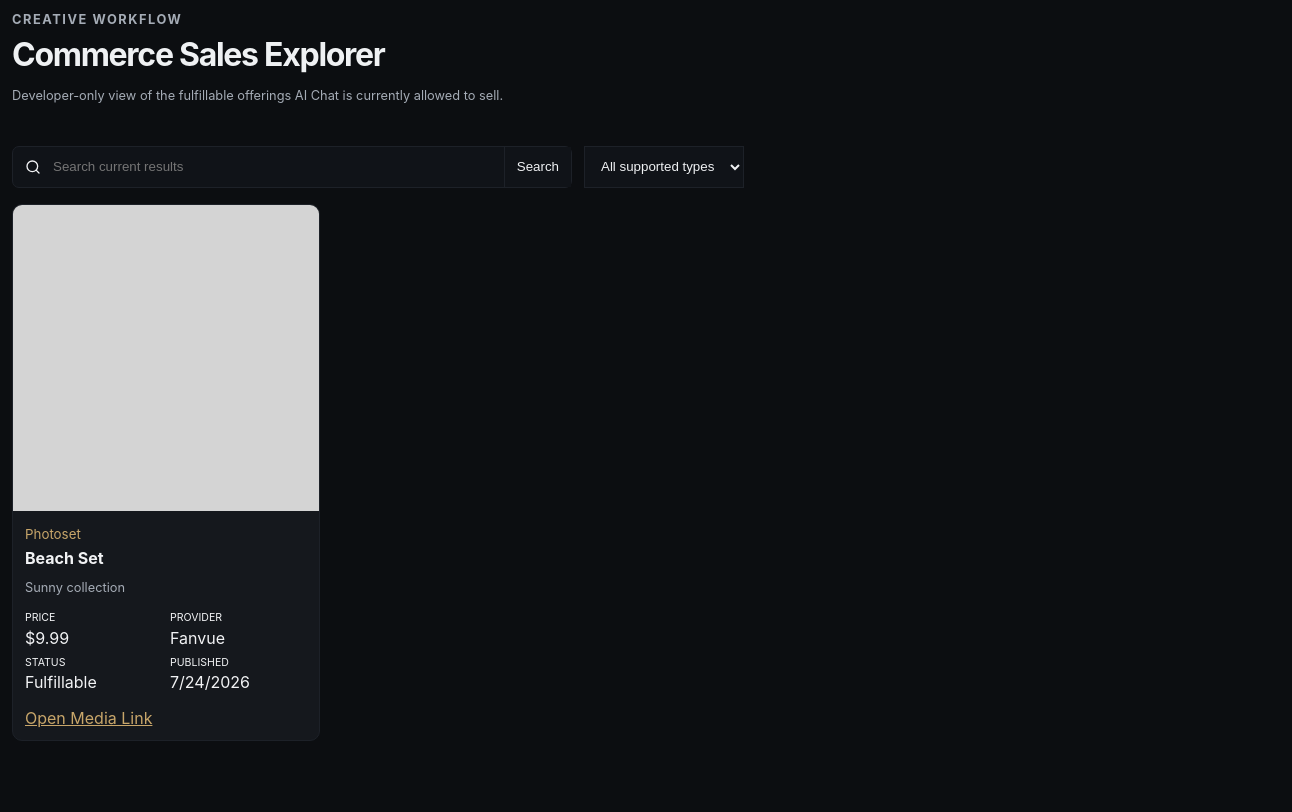
CommerceSalesExplorerPage › searches visible results
Expected: the heading "Beach Set" is shown, [25,548,104,568]
Type "missing" into the field named "Search Commerce Sales" at (272, 167), box [41,147,504,187]
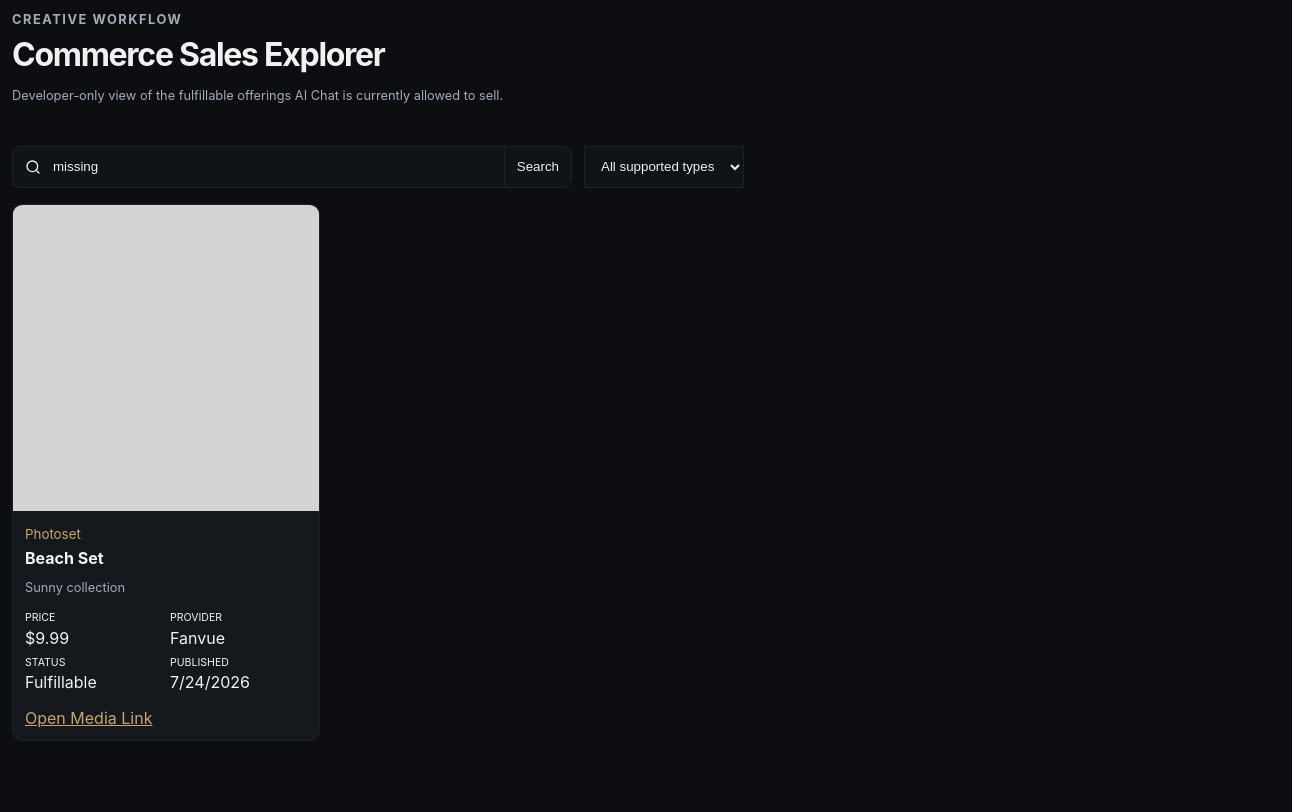
Click the button "Search" at (537, 167), box [504,147,571,187]
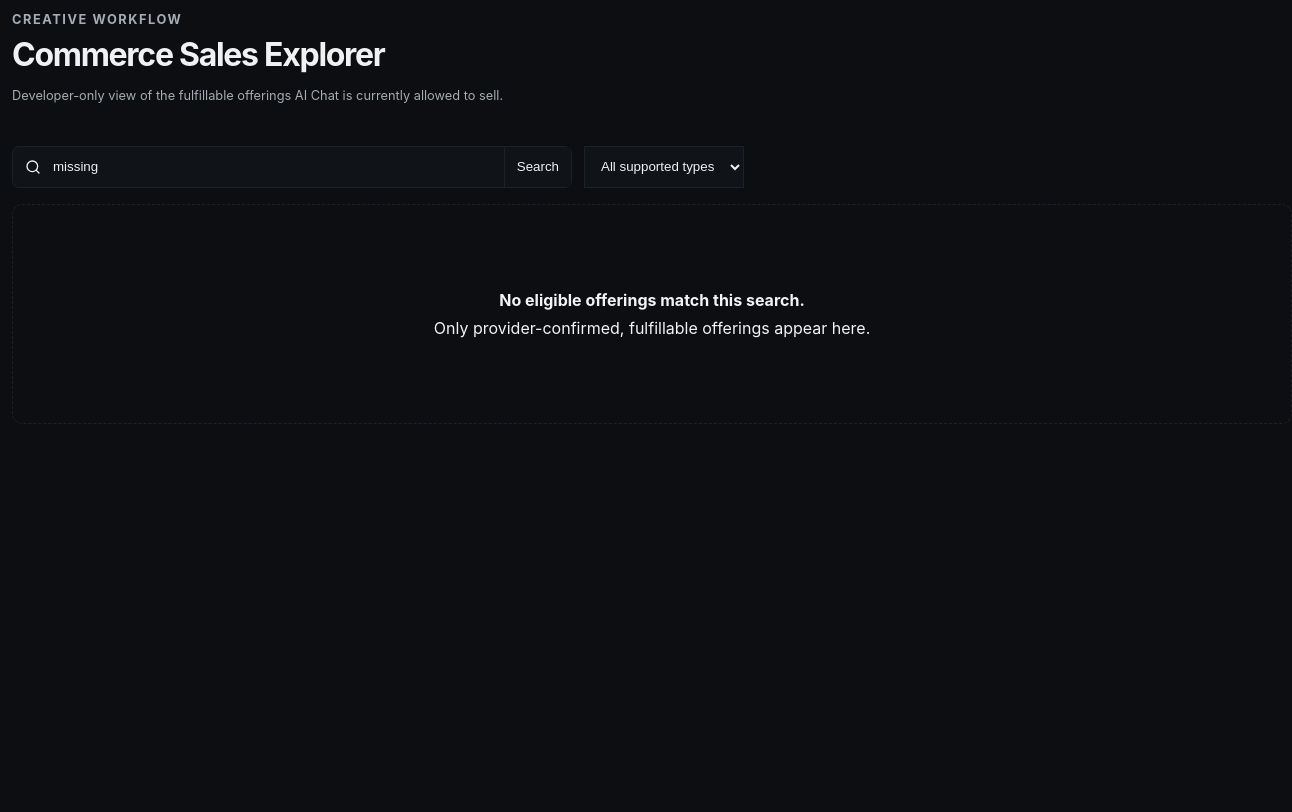
Now the text "No eligible offerings match this search." is shown, box [499,290,805,310]
